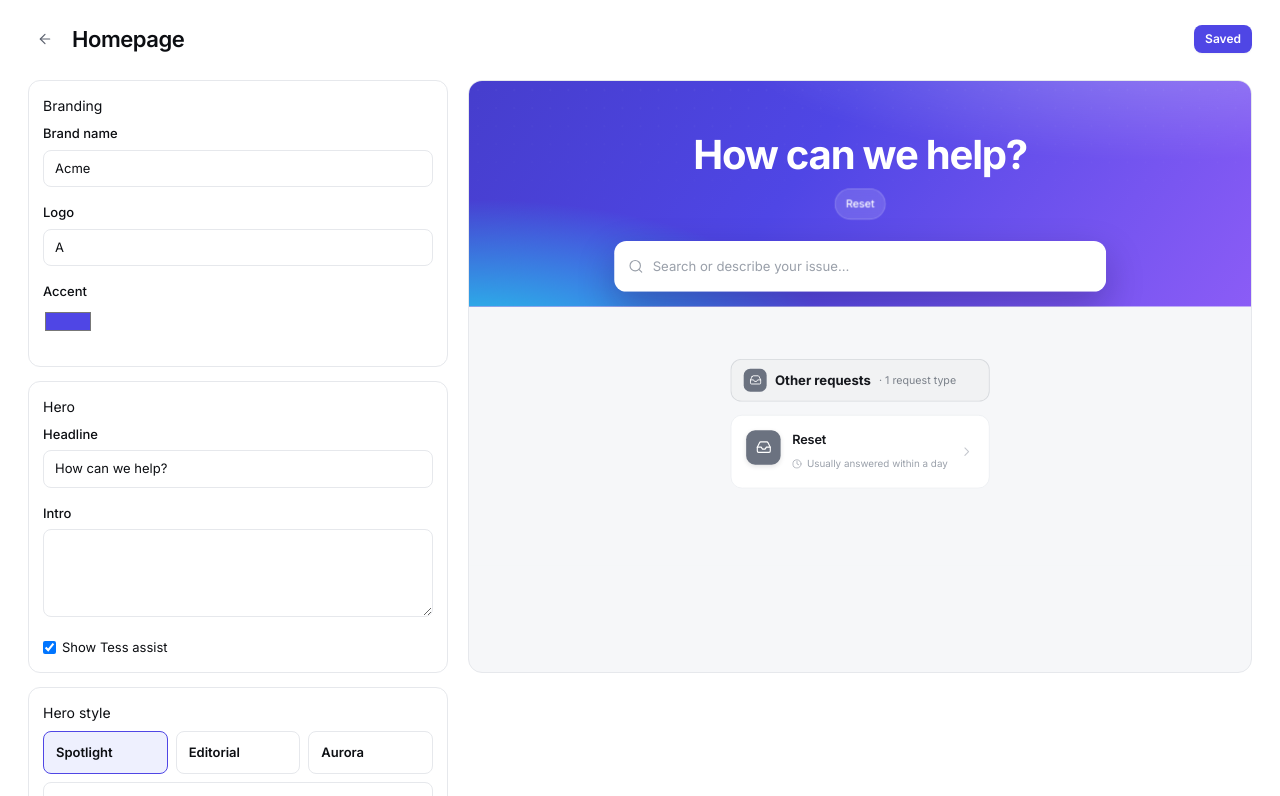
Test case: PortalEditor › shows a live preview that reflects unsaved hero text
This screenshot has width=1280, height=796.
Expected: the heading "Homepage" is shown, [72, 22, 184, 56]
Replace the text in the field labelled "Headline" with "Need a hand?". click: (238, 469)
box: [43, 450, 433, 488]
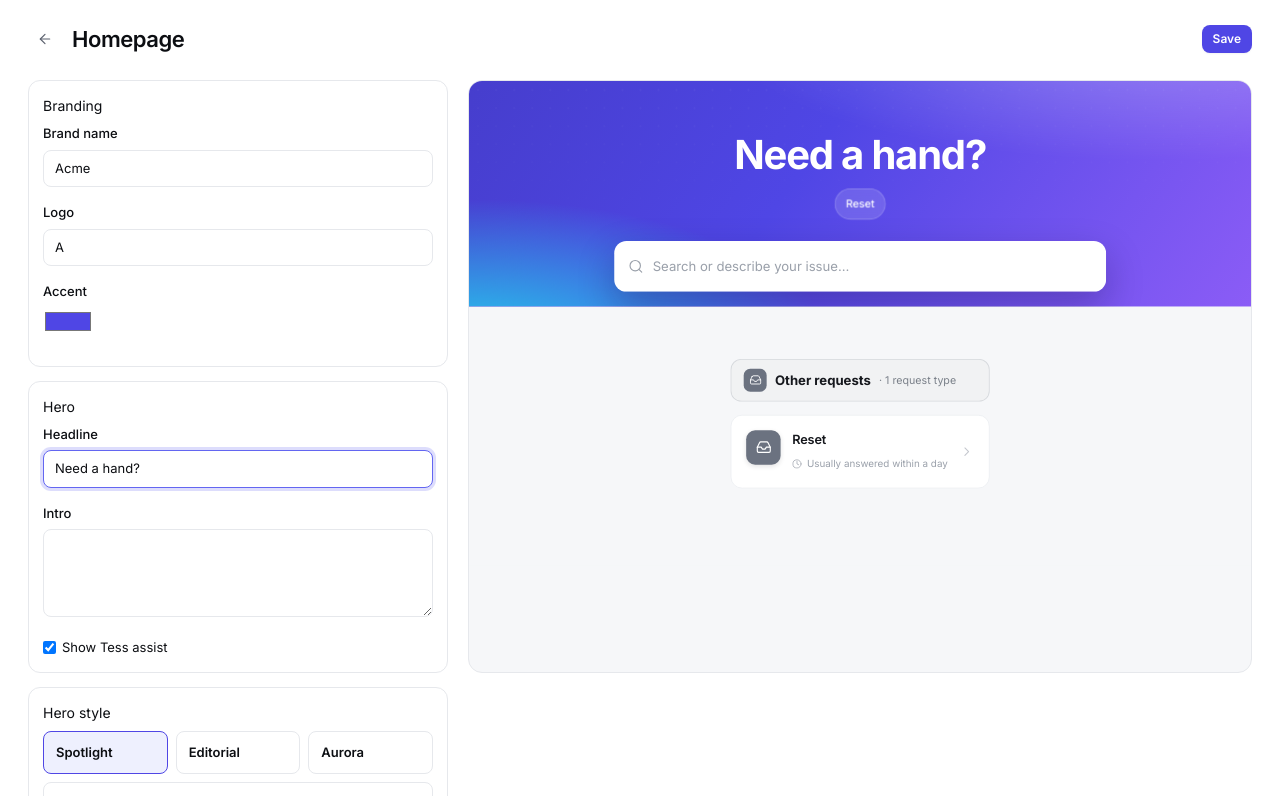
Now the heading with class "rp-hi" reads "Need a hand?", box [734, 130, 986, 179]
